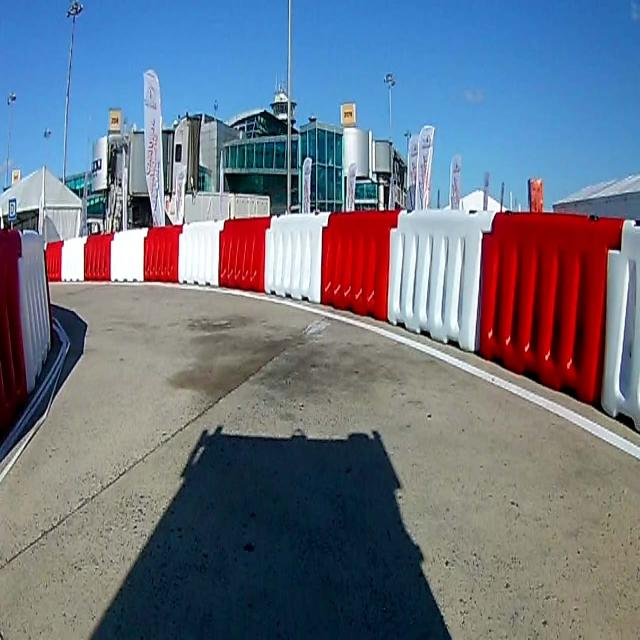durak: (8, 197, 15, 219)
